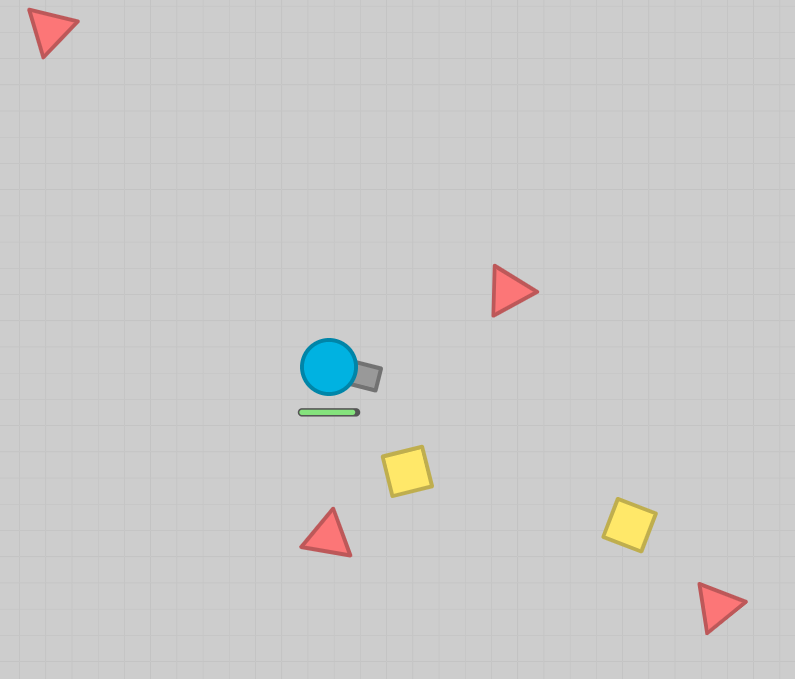Player: (298, 335, 385, 401)
Square: (597, 494, 659, 555), (377, 442, 437, 501)
Triangle: (693, 580, 753, 638), (22, 7, 84, 63), (297, 504, 355, 562), (486, 260, 540, 321)
